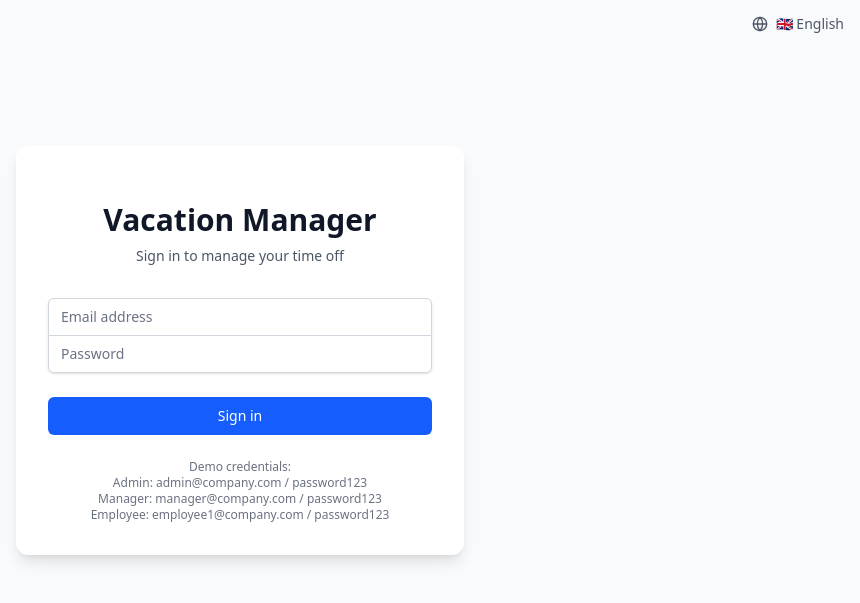
Test case: LoginPage › shows error message on failed login
Type "test@example.com" into the field with placeholder "Email address".
click(240, 316); type("test@example.com")  # box [48,298,432,336]
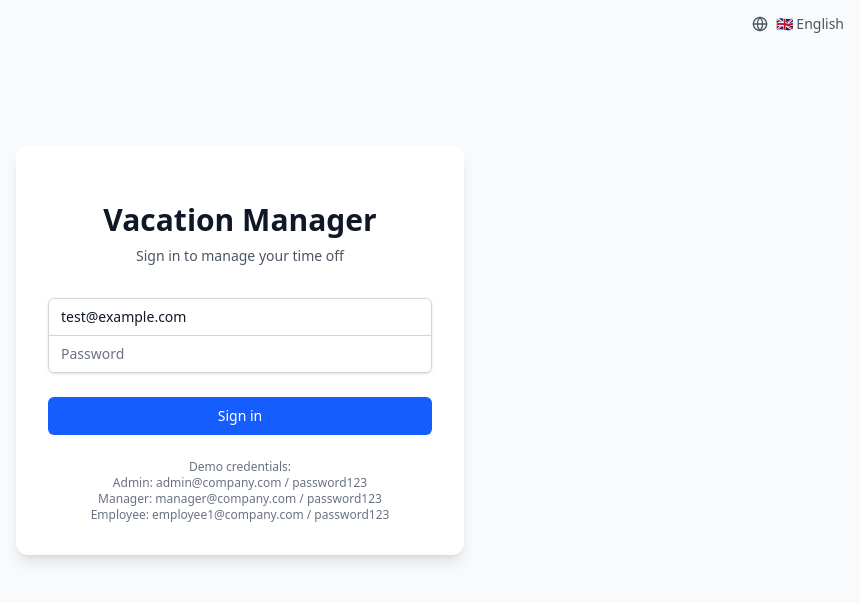
Type "wrongpassword" into the password field with placeholder "Password".
click(240, 354); type("wrongpassword")  # box [48,334,432,372]
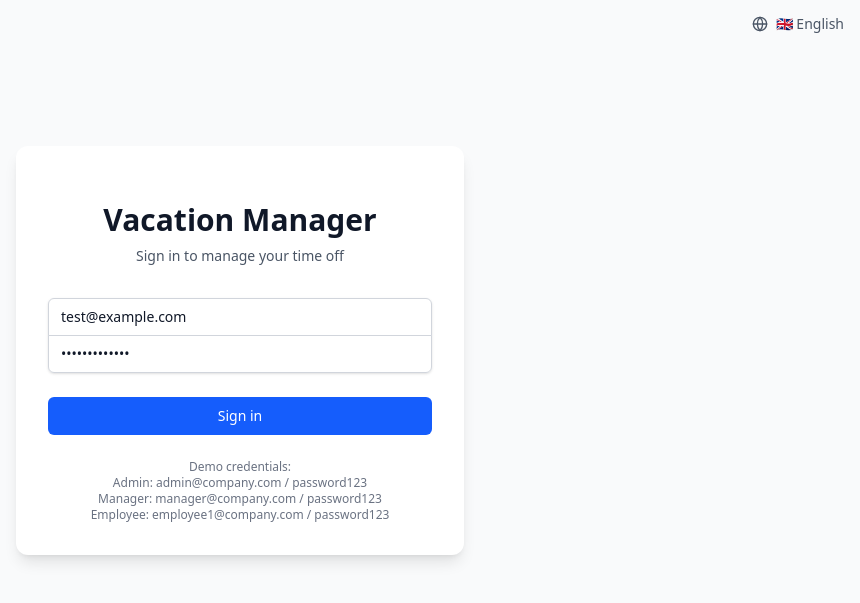
Click the button "Sign in".
click(240, 416)  # box [48,396,432,434]
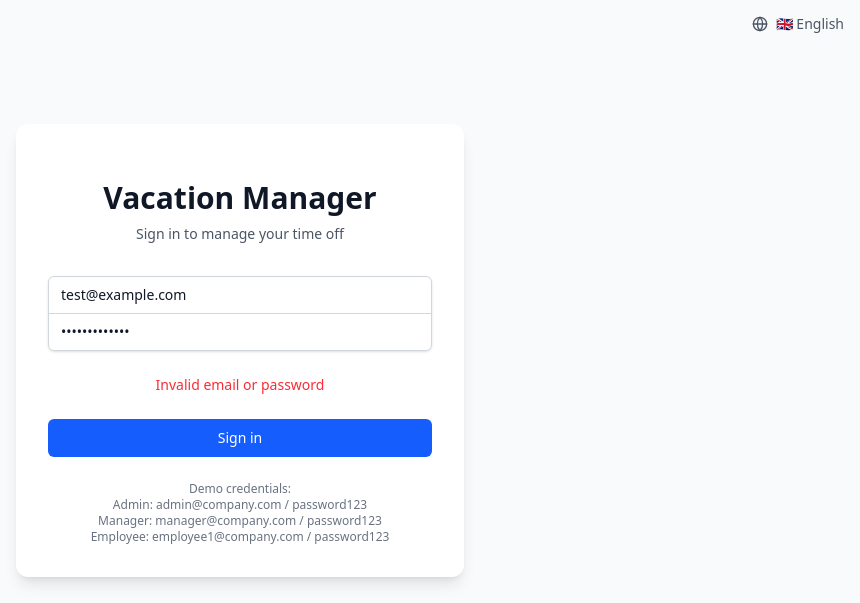
Expected: the text "Invalid email or password" is shown, [156,374,324,394]
